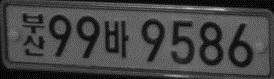5: (170, 20, 195, 64)
6: (228, 22, 254, 67)
8: (198, 21, 224, 66)
9: (140, 18, 165, 61), (47, 13, 71, 57), (76, 15, 100, 59)
바: (103, 19, 129, 57)
부산_V: (21, 12, 45, 56)
